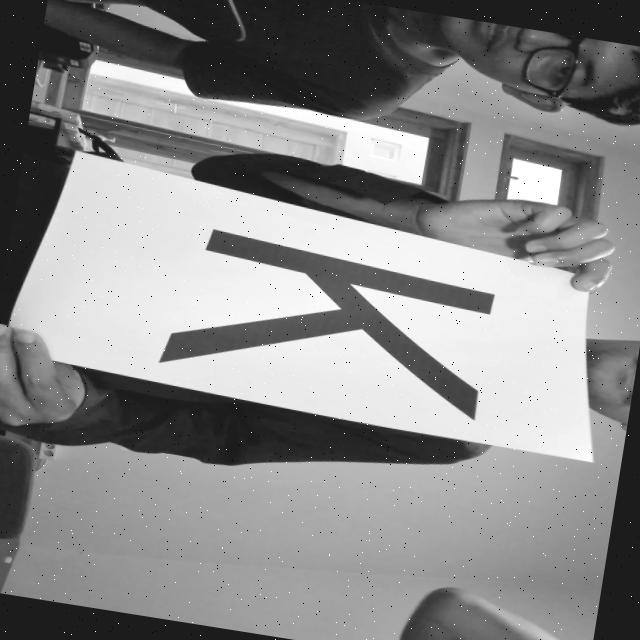k: (118, 216, 525, 424)
